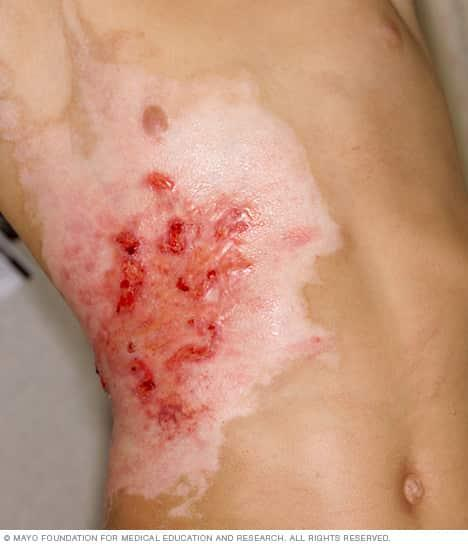burned-skin: (11, 39, 342, 511)
